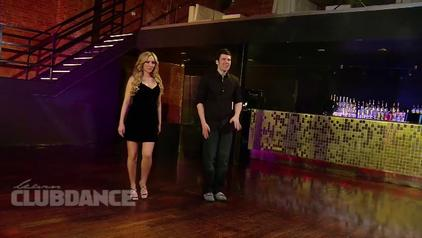stay: (116, 26, 168, 221)
walk: (194, 56, 248, 175)
